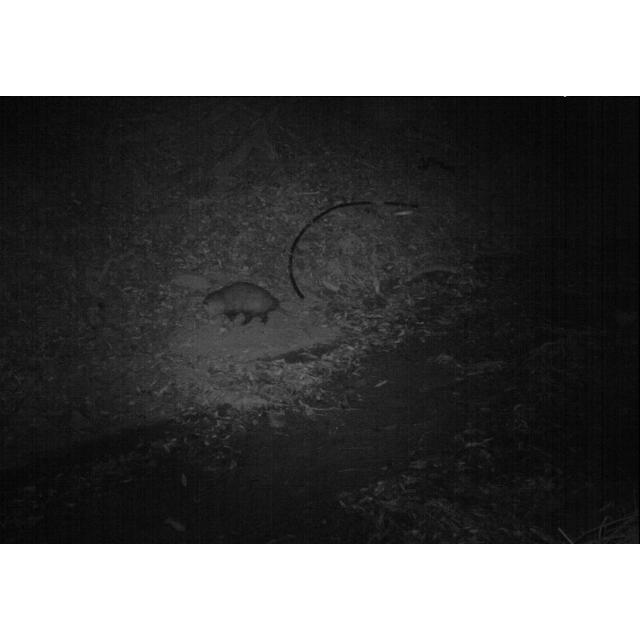animals: (198, 280, 284, 332)
